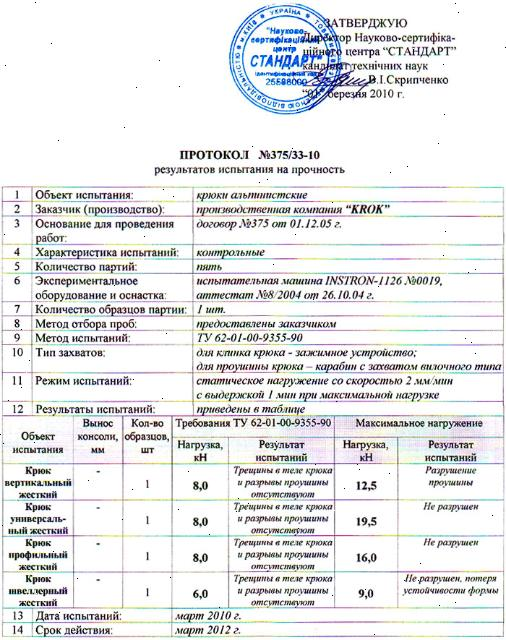stamp: (227, 2, 342, 116)
